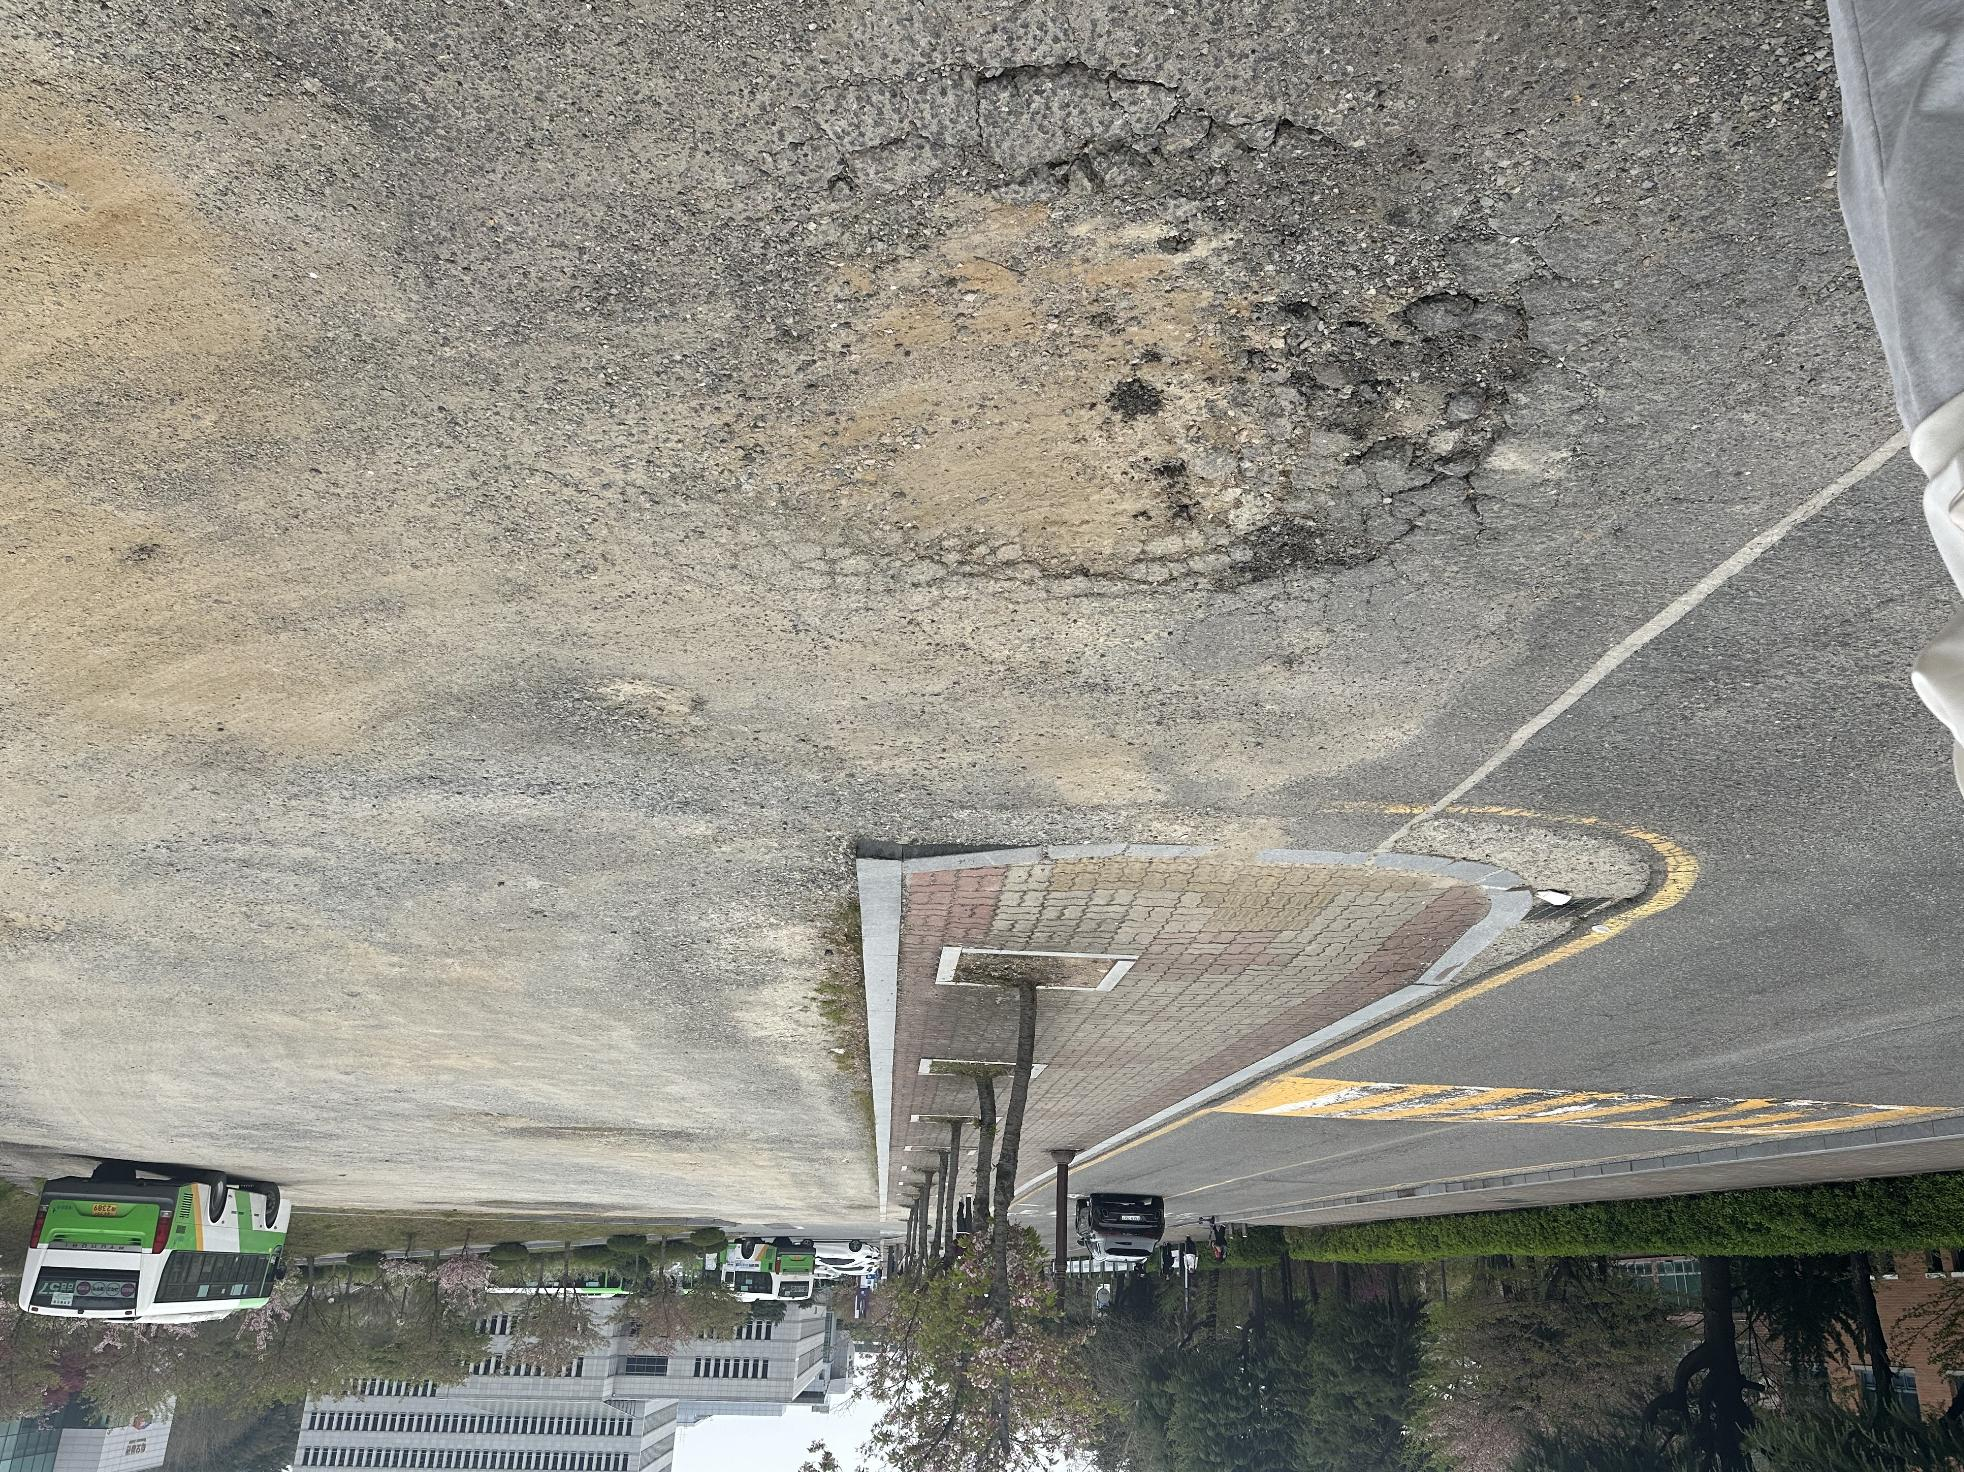pothole: (744, 88, 1480, 611)
